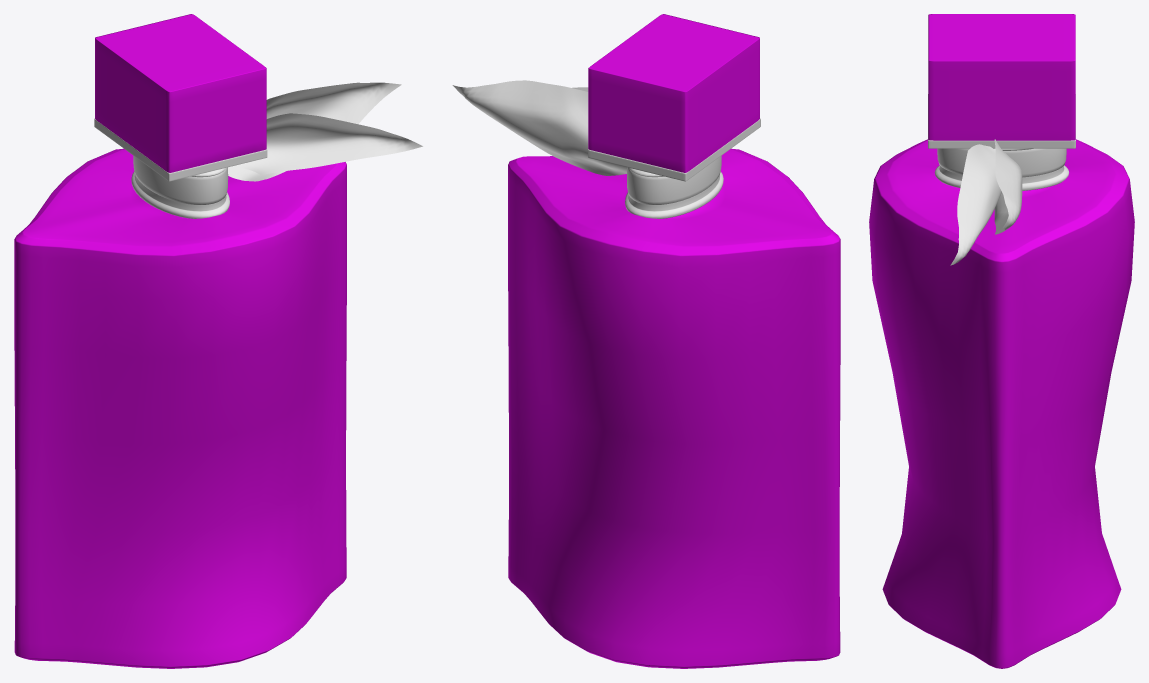
3 renders of one model, left to right at view 1: azimuth 30°, elevation 25°; view 2: azimuth 150°, elevation 25°; view 3: azimuth 270°, elevation 25°, orthographic.
Visible parts, largest first — view 1: uploads_files_2721777_lancome; view 2: uploads_files_2721777_lancome; view 3: uploads_files_2721777_lancome.
Boxes of the visible parts, x1,y1,x2,y2 form: uploads_files_2721777_lancome: (14, 14, 422, 668); uploads_files_2721777_lancome: (452, 14, 840, 668); uploads_files_2721777_lancome: (869, 14, 1134, 668).
Bounding box in the file's own units: 1.61 × 2.26 × 0.9764.
